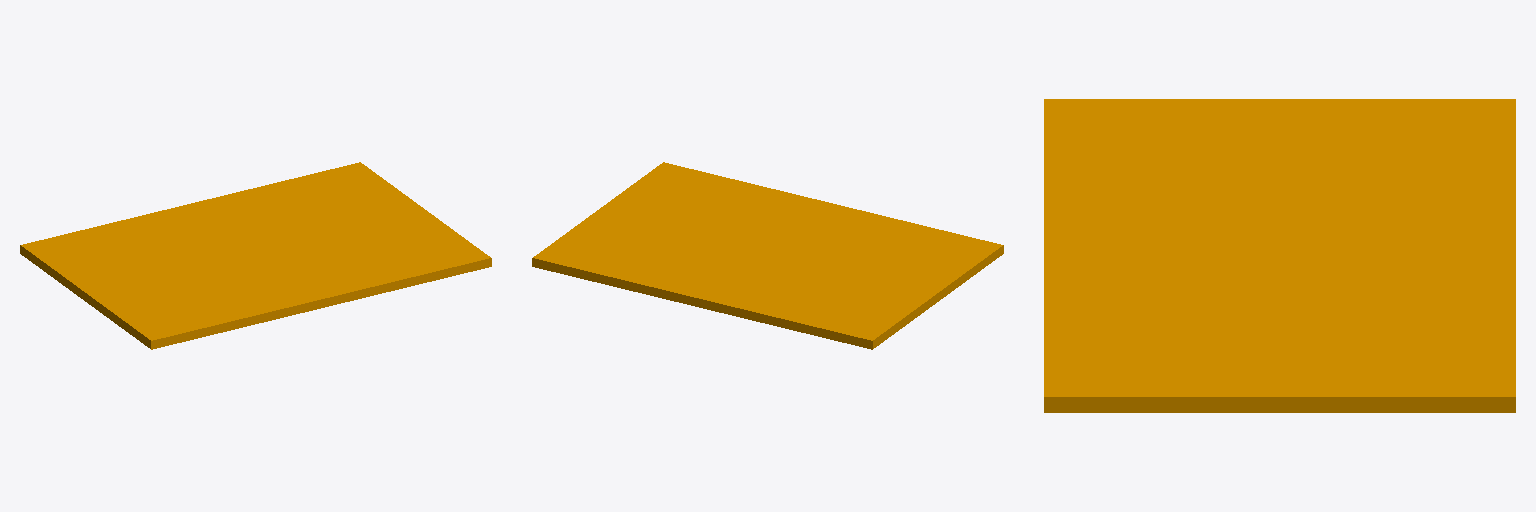
URDF robot description (gear_plate):
<?xml version="1.0"?>
<robot name="gear_plate">
  <link name="base_link">
    <visual>
      <origin xyz="0 0 0.0075"/>
      <geometry>
        <box size=".3 .2 0.0075"/>
      </geometry>
    </visual>
    <!--collision>
      <geometry>
        <origin xyz="0 0 0.0075"/>
        <box size=".3 .2 0.015"/>
      </geometry>
    </collision-->
  </link>
</robot>

--- What the picture shows (computed from the rendered views, not written in the file) ---
Views: 3 orthographic renders of the robot side by side, from view 1: azimuth 30°, elevation 25°; view 2: azimuth 150°, elevation 25°; view 3: azimuth 270°, elevation 25°.
Model gear_plate with 1 links and 0 joints (none), rooted at base_link, posed all joints at 0.
Visible links, largest first — view 1: base_link; view 2: base_link; view 3: base_link.
Link boxes in pixels (x1,y1,x2,y2): base_link: (20, 162, 491, 349); base_link: (532, 162, 1003, 349); base_link: (1044, 99, 1515, 412).
Size in the robot's own frame: 0.3 by 0.2 by 0.0075 metres.
Geometry: primitives only (box / cylinder / sphere), no mesh files.
